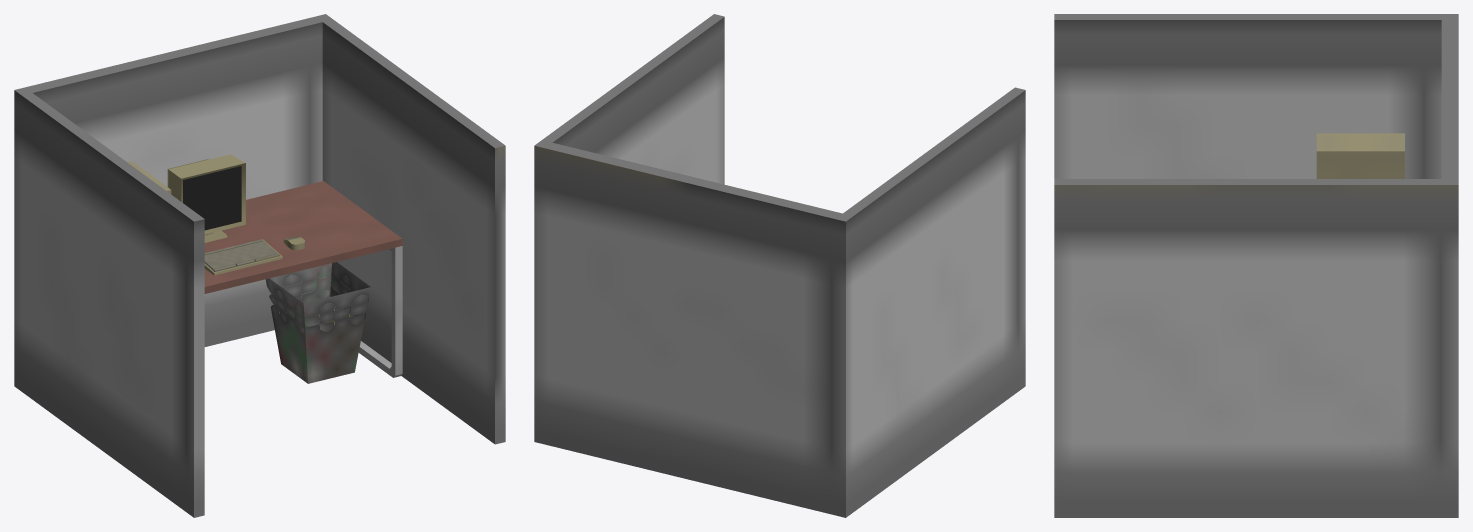
The model's file is ModelsPack_A.fbx.
3 views of the same model, side by side, from view 1: azimuth 30°, elevation 25°; view 2: azimuth 150°, elevation 25°; view 3: azimuth 270°, elevation 25° (orthographic). The views are drawn at different scales.
Parts seen in each view (by area): view 1: Cubicle, Table, Trash, Monitor, Keyboard; view 2: Cubicle; view 3: Cubicle, PC.
Part boxes in pixels (bbox=[...]): Cubicle: bbox=[14, 14, 505, 517]; Table: bbox=[204, 181, 402, 377]; Trash: bbox=[265, 262, 370, 383]; Monitor: bbox=[167, 154, 245, 242]; Keyboard: bbox=[204, 239, 282, 275]; Cubicle: bbox=[534, 14, 1025, 517]; Cubicle: bbox=[1054, 14, 1458, 517]; PC: bbox=[1316, 133, 1404, 178].
Bounding box in the file's own units: 2 × 1.82 × 2.
